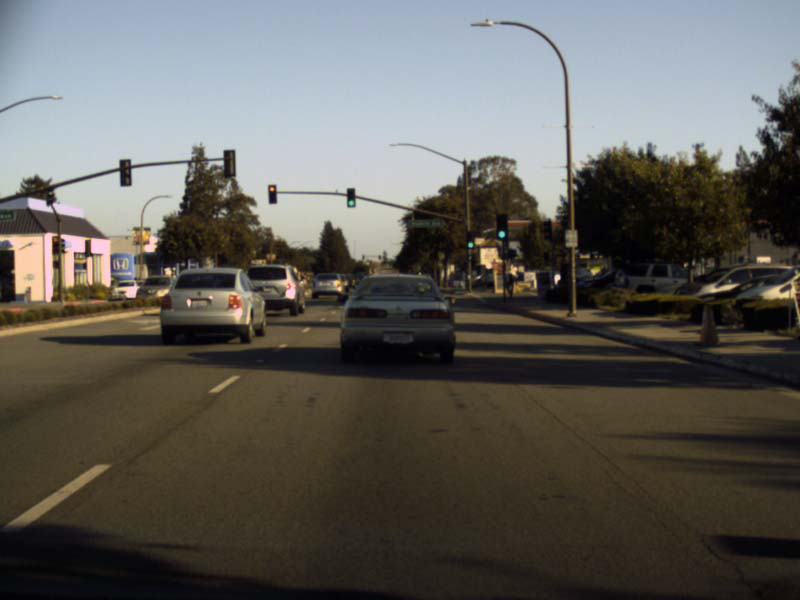Green: (496, 214, 507, 239), (347, 188, 355, 207), (466, 231, 474, 248)
Red: (268, 185, 276, 203)
